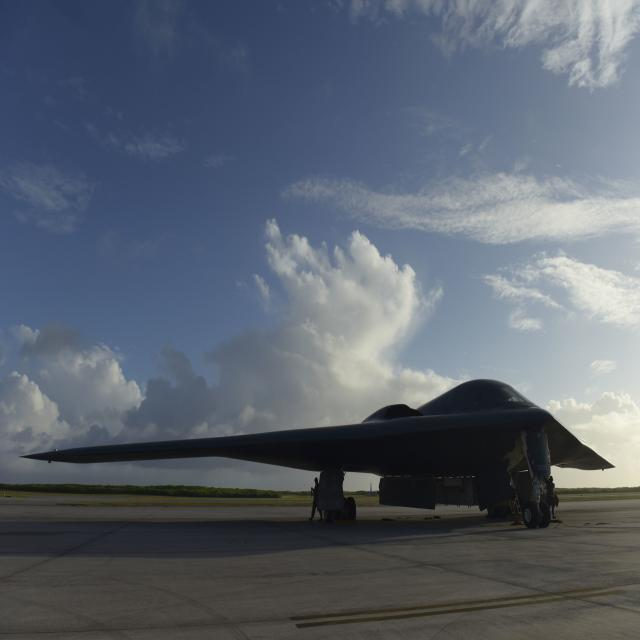MIL_Plane: (24, 385, 610, 522)
